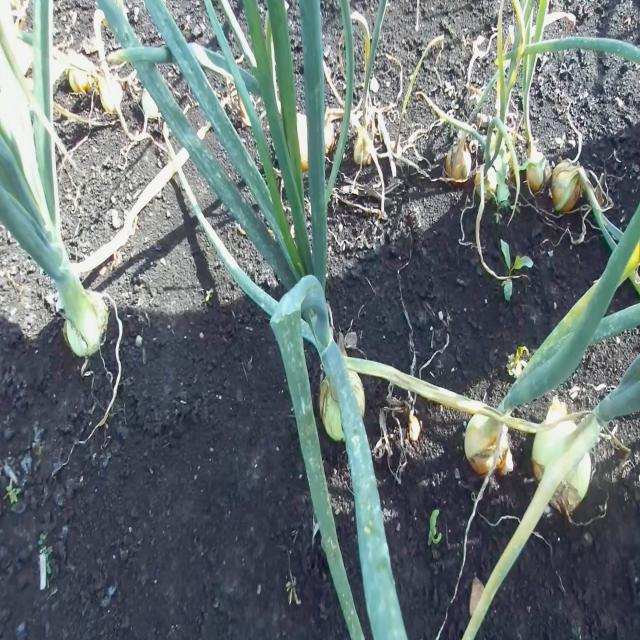onion: (531, 417, 592, 516), (319, 368, 366, 443), (464, 409, 513, 478), (62, 289, 108, 355), (550, 159, 584, 214), (444, 135, 472, 183)
